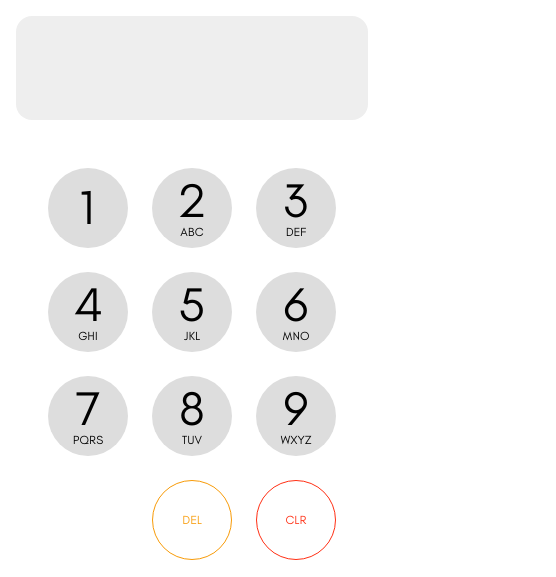
Test case: display found predictions
Click the text "2" at (192, 201), box x1=178 y1=177 x2=206 y2=225
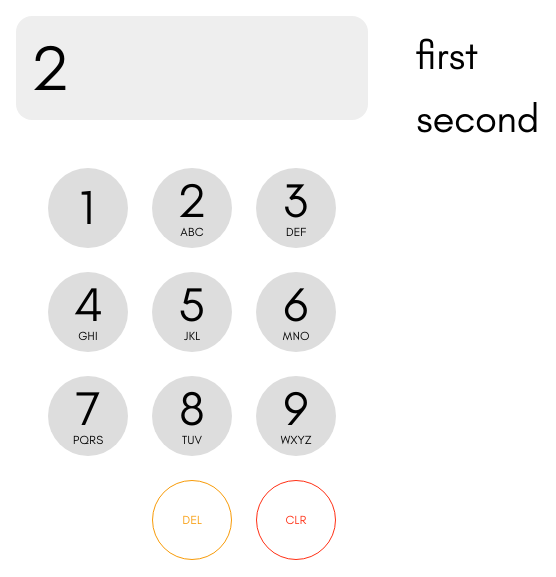
Check: the text "first" is shown, box x1=416 y1=32 x2=478 y2=79
Check: the text "second" is shown, box x1=416 y1=95 x2=539 y2=142
